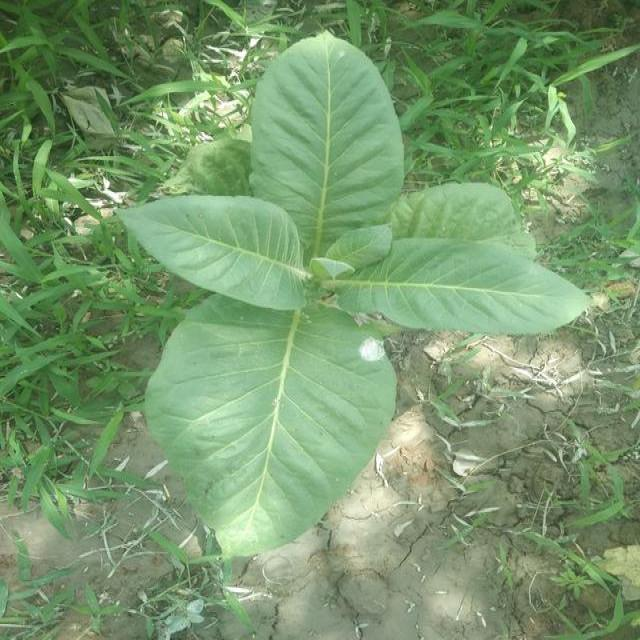crop: (99, 32, 590, 548)
